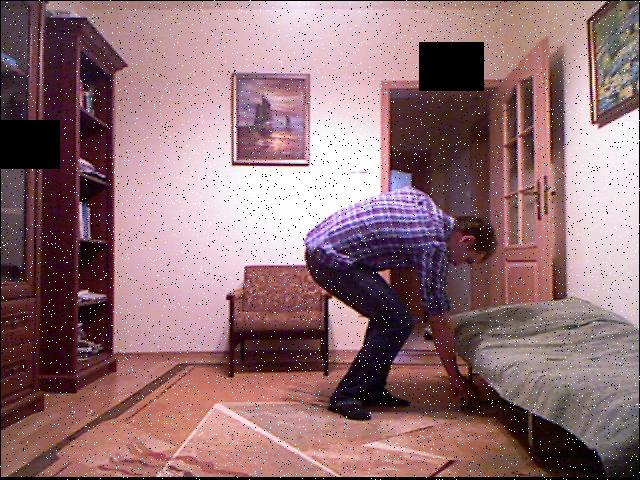bending: (300, 174, 508, 430)
